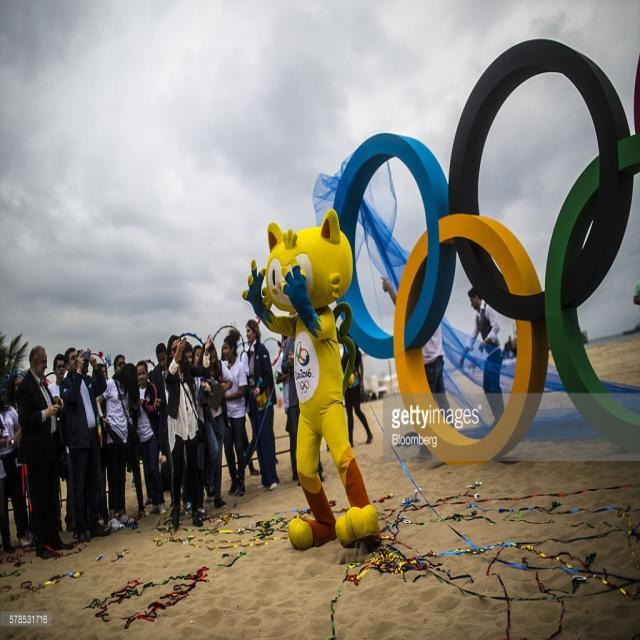body: (240, 204, 382, 549), (380, 272, 453, 454), (14, 344, 65, 558), (163, 332, 214, 530), (56, 344, 107, 540), (282, 311, 325, 483), (96, 359, 138, 530), (95, 360, 135, 530), (458, 285, 504, 427), (244, 318, 279, 490), (197, 340, 235, 498), (46, 352, 76, 534), (245, 329, 278, 482), (0, 381, 29, 549), (221, 332, 248, 498), (192, 344, 218, 502), (150, 340, 174, 505), (136, 360, 161, 514), (275, 333, 300, 482), (340, 344, 374, 450), (92, 362, 110, 528), (0, 411, 12, 558), (243, 427, 258, 477), (5, 373, 23, 408), (182, 338, 194, 368), (77, 348, 90, 374), (506, 331, 518, 358), (632, 273, 640, 313), (112, 353, 127, 374)
